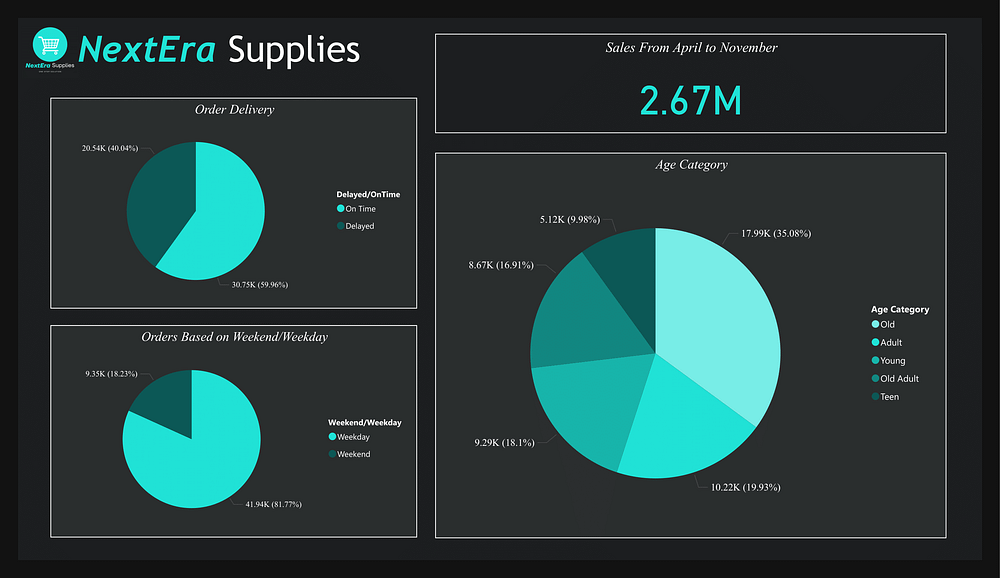

The page's visual inventory and layout, read from the dashboard file:
{"tool":"powerbi","page":{"name":"Page 5","canvas":[1280,720],"ordinal":4},"visuals":[{"type":"image","box":[0,0,84.7,84.7],"z":0},{"type":"textbox","box":[74.1,8.2,394.1,68.2],"z":1000},{"type":"pieChart","title":"Order Delivery","fields":{"Category":["Orders.Delayed/OnTime"],"Y":["CountNonNull(Orders.Customer ID)"]},"box":[42.5,106.2,487.5,280],"z":2000},{"type":"pieChart","title":"Orders Based on  Weekend/Weekday","fields":{"Category":["Orders.Weekend/Weekday"],"Y":["CountNonNull(Orders.Order ID)"]},"box":[42.5,407.5,487.5,282.5],"z":3000},{"type":"pieChart","title":"Age Category","fields":{"Y":["CountNonNull(Orders.Order ID)"],"Category":["Customer.Category"]},"box":[553.8,178.8,678.8,512.5],"z":4000},{"type":"card","title":"Sales From April to November","fields":{"Values":["Measure Table.Desired Sales"]},"box":[553.8,21.2,678.8,131.2],"z":5000}]}

Visuals, with their boxes in screenshot pixels (x1, y1, x2, y2), scaled from the page's 1280x720 canvas onto the 1000x578 screenshot:
image: <region>0, 0, 66, 68</region>
textbox: <region>58, 7, 366, 61</region>
"Order Delivery" pieChart: <region>33, 85, 414, 310</region>
"Orders Based on  Weekend/Weekday" pieChart: <region>33, 327, 414, 554</region>
"Age Category" pieChart: <region>433, 144, 963, 555</region>
"Sales From April to November" card: <region>433, 17, 963, 122</region>
